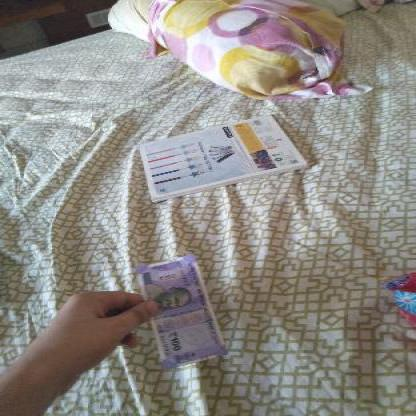New100Front: (137, 257, 224, 364)
